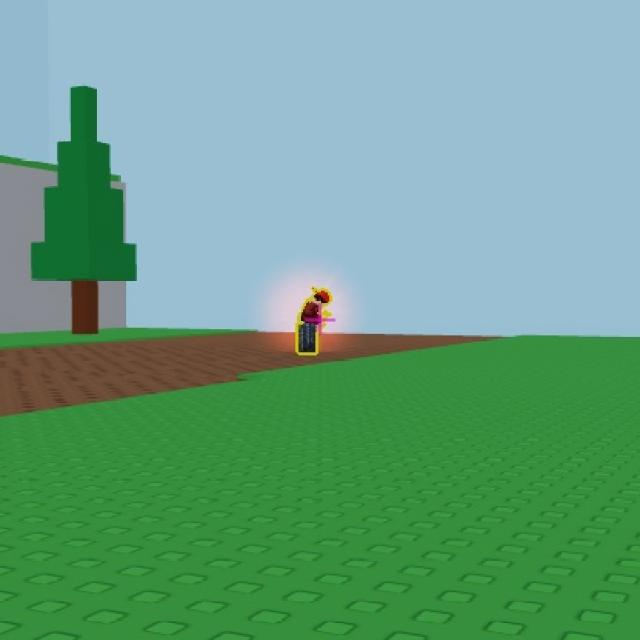player: (300, 288, 324, 356)
